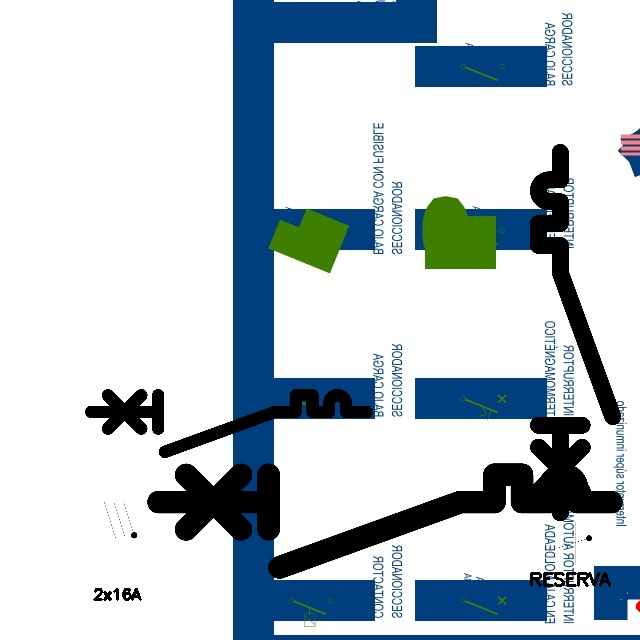interruptor_termomagnetico: (146, 463, 622, 579), (529, 143, 622, 522), (84, 388, 374, 459)
